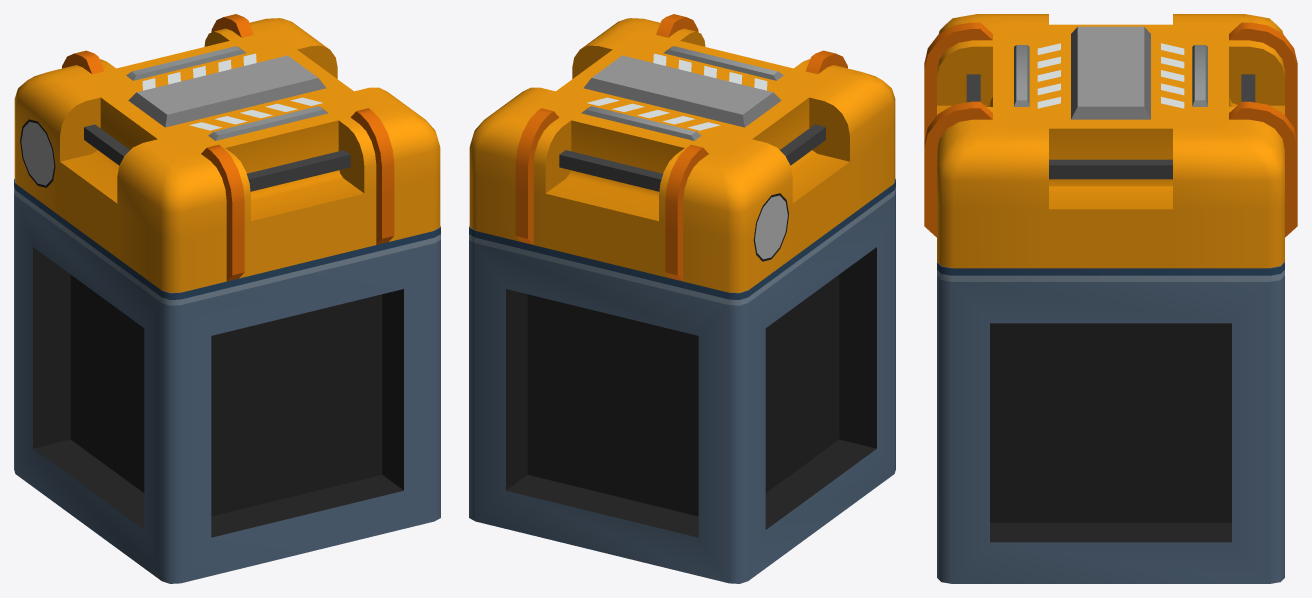
Rendered from Containers.fbx.
3 views of the same model, side by side, from view 1: azimuth 30°, elevation 25°; view 2: azimuth 150°, elevation 25°; view 3: azimuth 270°, elevation 25° (orthographic). The views are drawn at different scales.
Parts seen in each view (by area): view 1: Containers; view 2: Containers; view 3: Containers.
Part boxes in pixels (x1,y1,x2,y2): Containers: [14, 14, 440, 583]; Containers: [469, 14, 895, 583]; Containers: [924, 14, 1297, 583].
Bounding box in the file's own units: 115 × 162 × 123.
